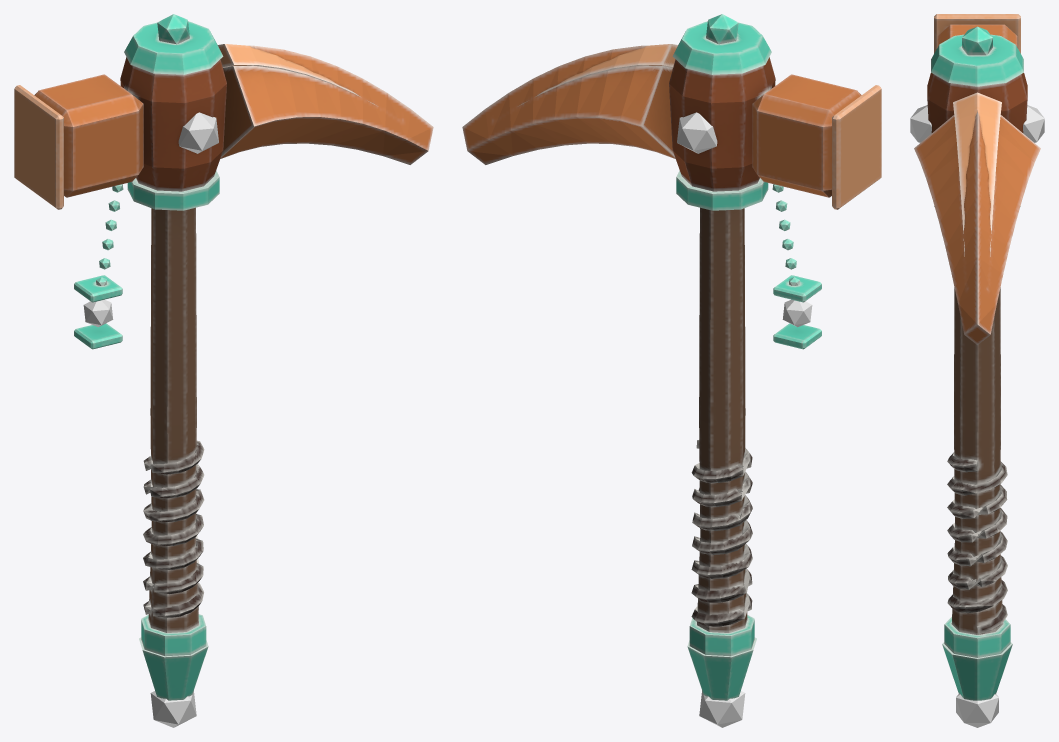
File: CopperPickaxe.glb
3 renders of one model, left to right at view 1: azimuth 30°, elevation 25°; view 2: azimuth 150°, elevation 25°; view 3: azimuth 270°, elevation 25°, orthographic.
Visible parts, largest first — view 1: Body__Tex, Head__Gem; view 2: Body__Tex, Head__Gem; view 3: Body__Tex, Head__Gem.
Boxes of the visible parts, bbox=[...] form: Body__Tex: bbox=[14, 14, 433, 700]; Head__Gem: bbox=[150, 112, 218, 727]; Body__Tex: bbox=[462, 14, 881, 700]; Head__Gem: bbox=[677, 112, 745, 727]; Body__Tex: bbox=[914, 14, 1040, 700]; Head__Gem: bbox=[910, 105, 1044, 727].
Size of the model in its own units: 2.49 by 4.26 by 0.7412.
1 material, 1 textured.
